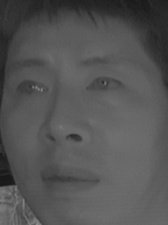eye: (84, 72, 128, 98), (10, 77, 51, 101)
mouth: (38, 158, 99, 196)
